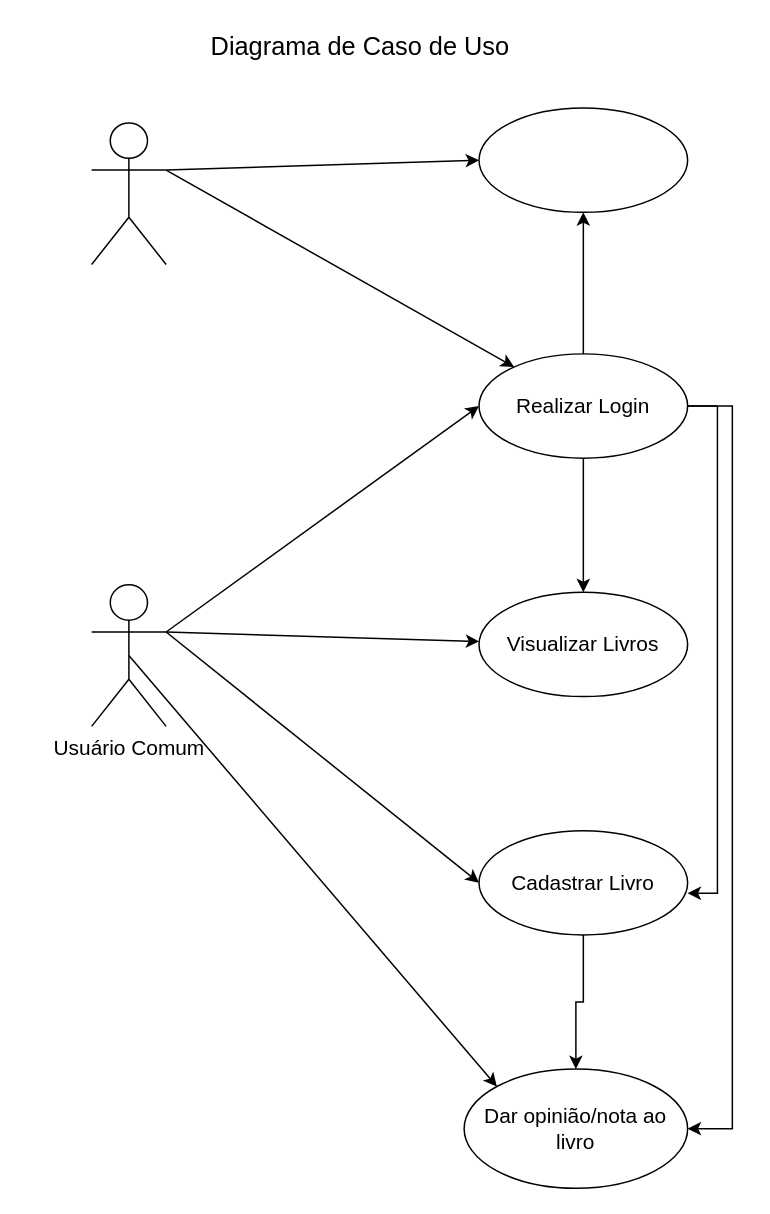
Some shapes in this 770 by 1214 pixel diagram are drawn without their labels. Each missing label, with the centre of its shape:
Cadastrar Usuário: pixel 583 159
Usuário Administrador: pixel 128 192
